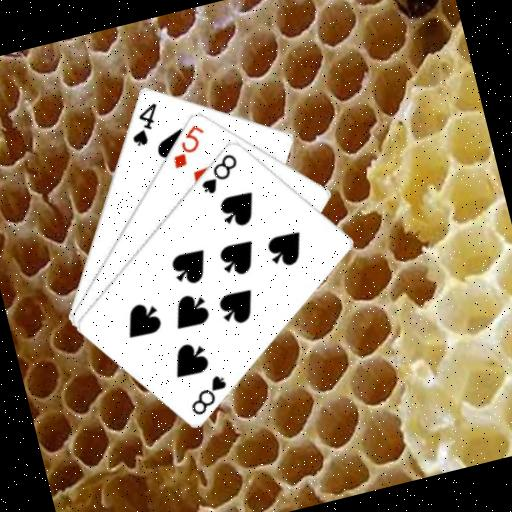4S: (122, 98, 168, 150)
5D: (162, 120, 213, 171)
8S: (192, 148, 246, 198), (182, 369, 235, 419)
